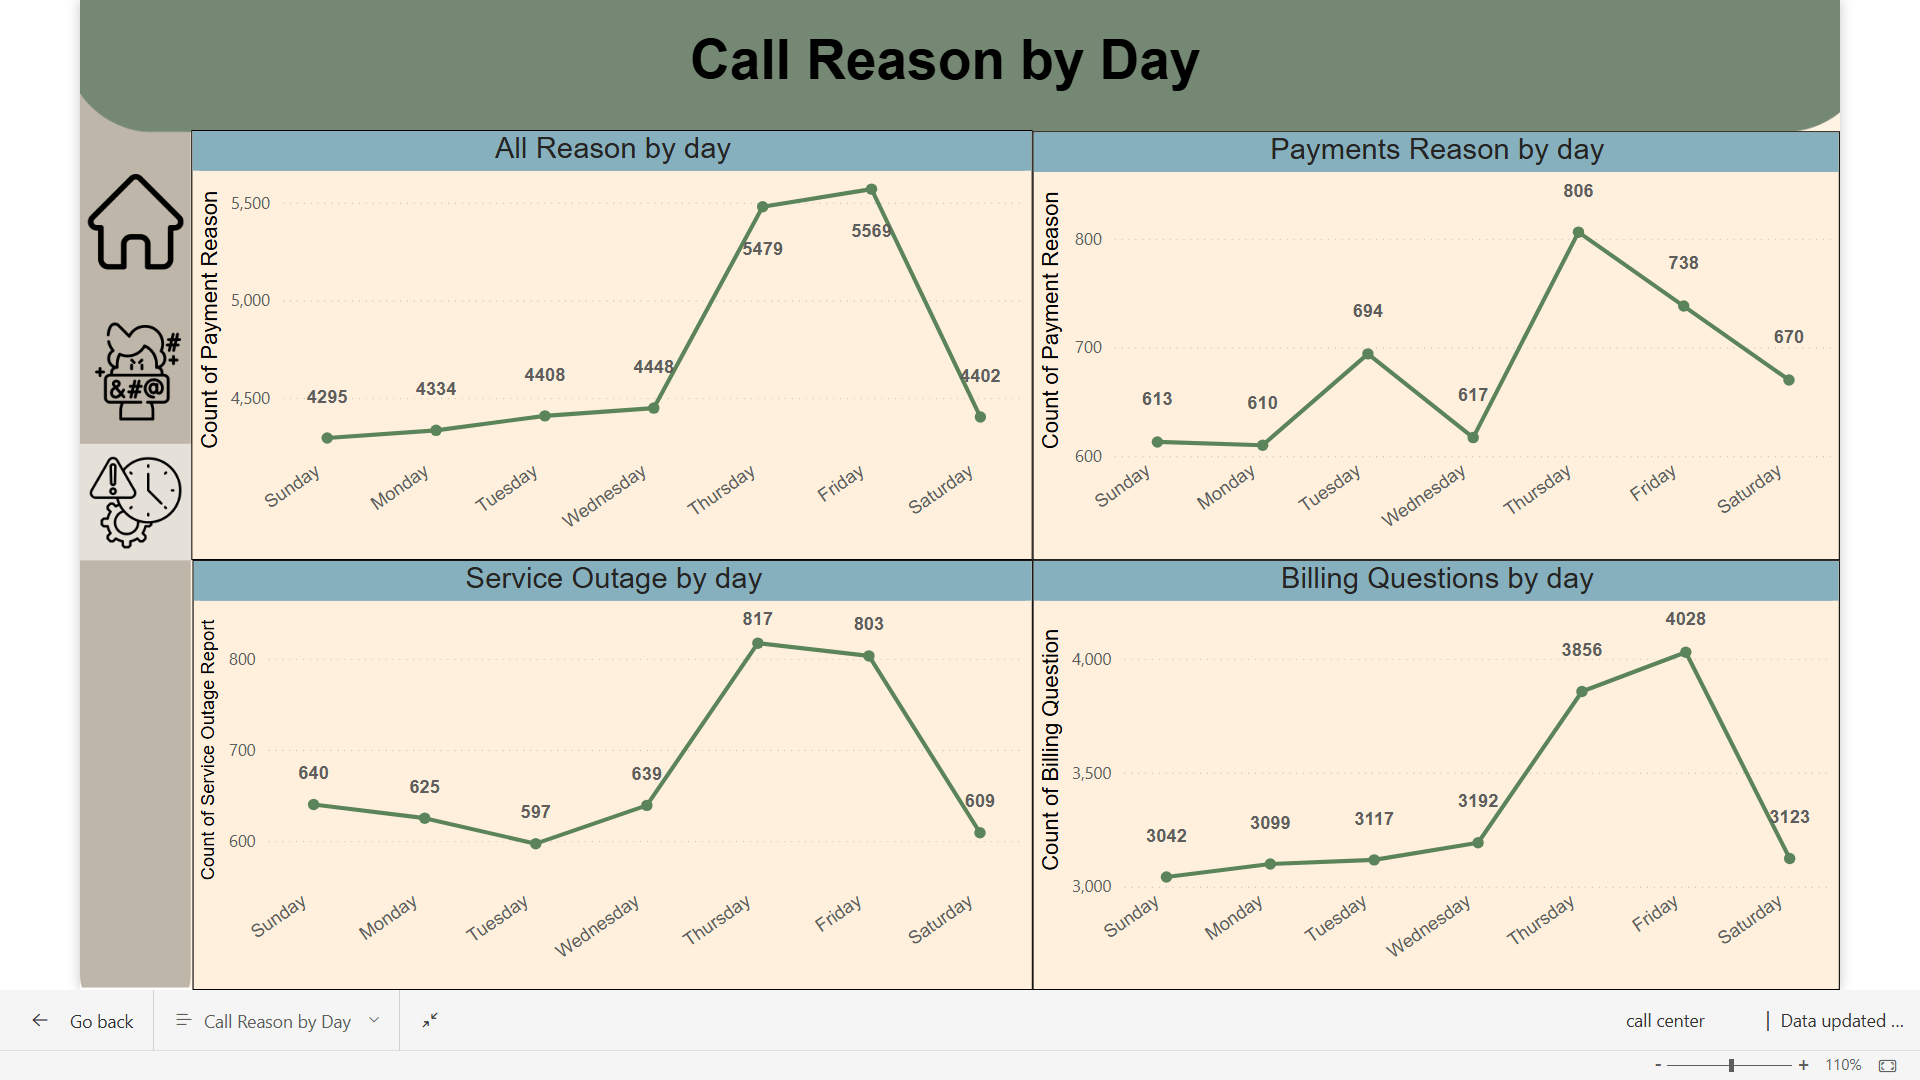

The dashboard page shown, as its layout file describes it:
{"tool":"powerbi","page":{"name":"Call Reason by Day","canvas":[1280,720],"ordinal":2},"visuals":[{"type":"lineChart","title":"Billing Questions by day","fields":{"Category":["day ordering.days"],"Y":["CountNonNull(Call Center.Reason)"]},"box":[693,407.5,587.3,312.9],"z":0},{"type":"lineChart","title":"Payments Reason by day","fields":{"Category":["day ordering.days"],"Y":["CountNonNull(Call Center.Reason)"]},"box":[693,95.3,587.2,311.6],"z":1000},{"type":"lineChart","title":"Service Outage by day","fields":{"Category":["day ordering.days"],"Y":["CountNonNull(Call Center.Reason)"]},"box":[81.4,407.1,611.4,312.9],"z":2000},{"type":"lineChart","title":"All Reason by day","fields":{"Category":["day ordering.days"],"Y":["CountNonNull(Call Center.Reason)"]},"box":[81,94.7,612,312.9],"z":3000},{"type":"shape","title":"Call Reason by Day","box":[443.8,21.2,391.2,55],"z":4000},{"type":"image","box":[0,122.1,81,79.6],"z":5000},{"type":"image","box":[1.4,227.8,81,83.7],"z":6000},{"type":"image","box":[0,322.5,81,85.1],"z":7000}]}

Visuals, with their boxes on the page's 1280x720 design canvas (x1, y1, x2, y2). These are canvas units, not pixel positions in the 1920x1080 screenshot, which may show the page scaled, cropped or inside an application window:
"Billing Questions by day" lineChart: (693, 408, 1280, 720)
"Payments Reason by day" lineChart: (693, 95, 1280, 407)
"Service Outage by day" lineChart: (81, 407, 693, 720)
"All Reason by day" lineChart: (81, 95, 693, 408)
"Call Reason by Day" shape: (444, 21, 835, 76)
image: (0, 122, 81, 202)
image: (1, 228, 82, 312)
image: (0, 322, 81, 408)
